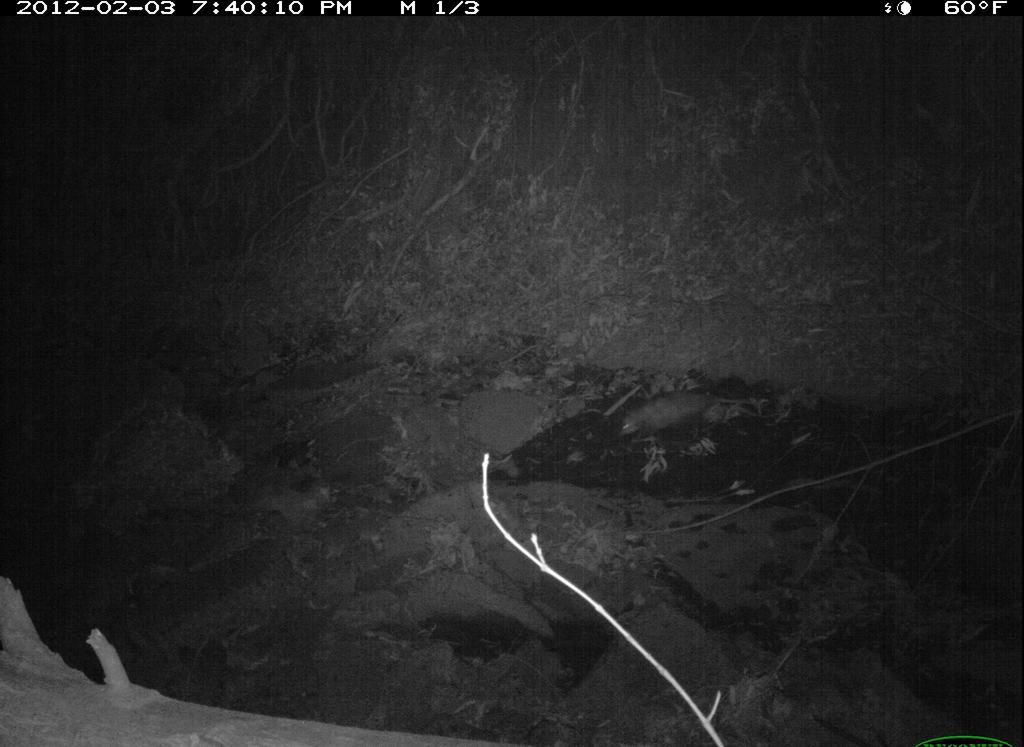opossum: (609, 385, 765, 450)
